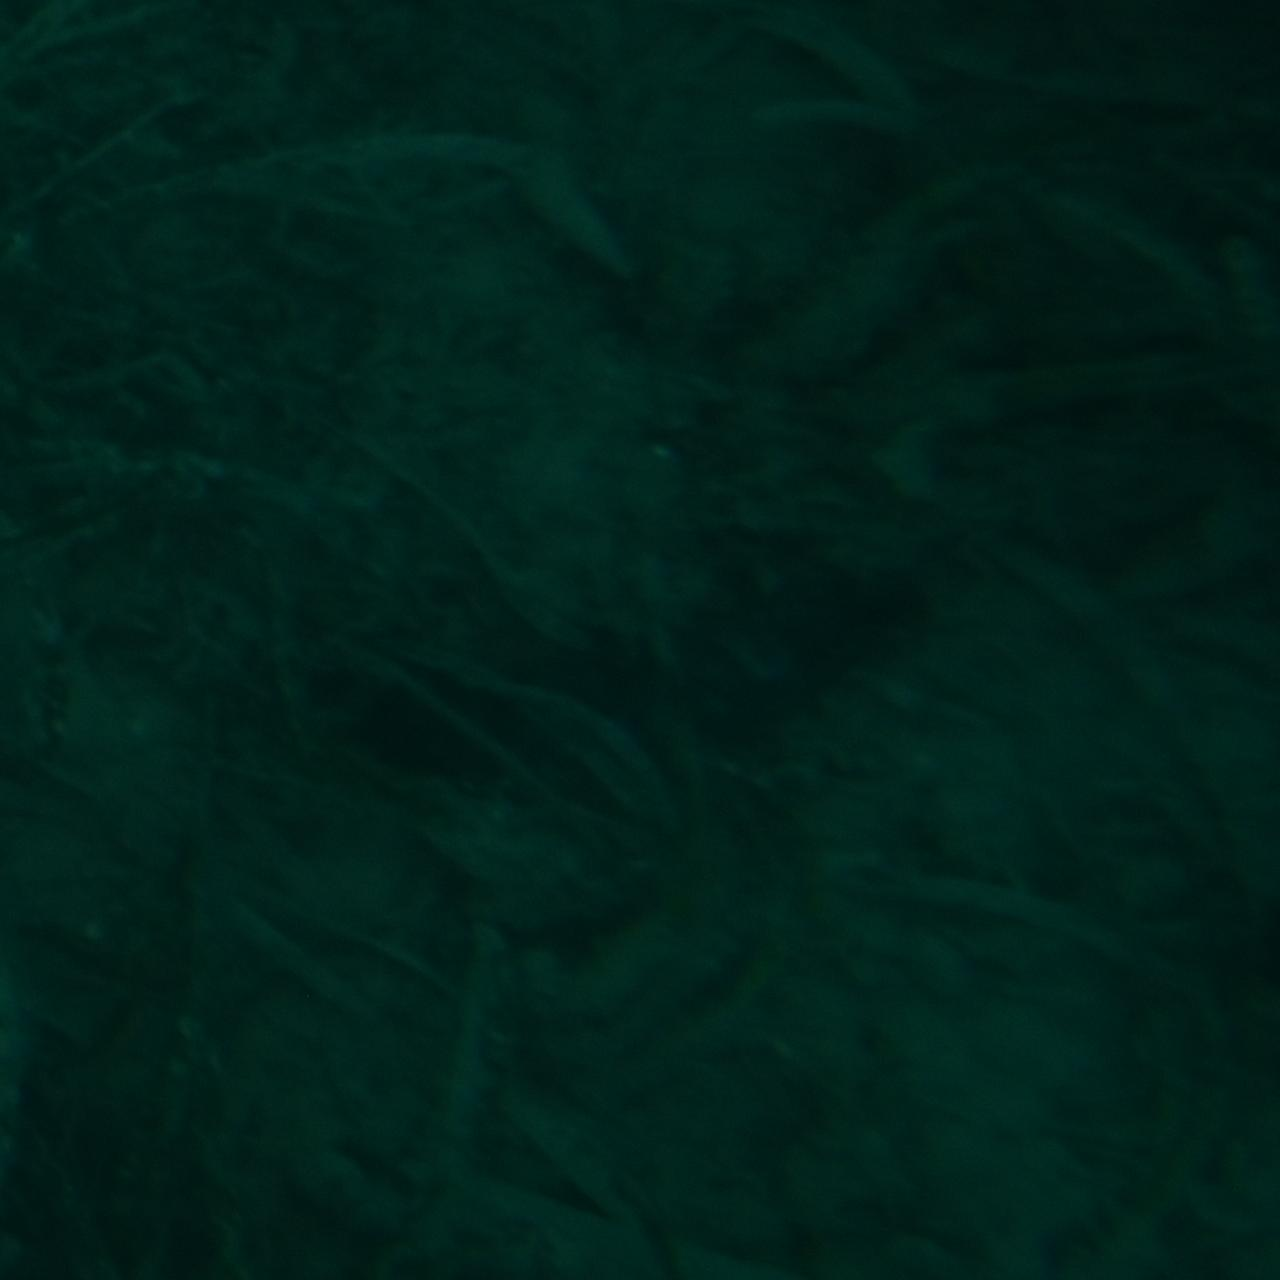Holothuria tubulosa: (324, 490, 956, 790)
